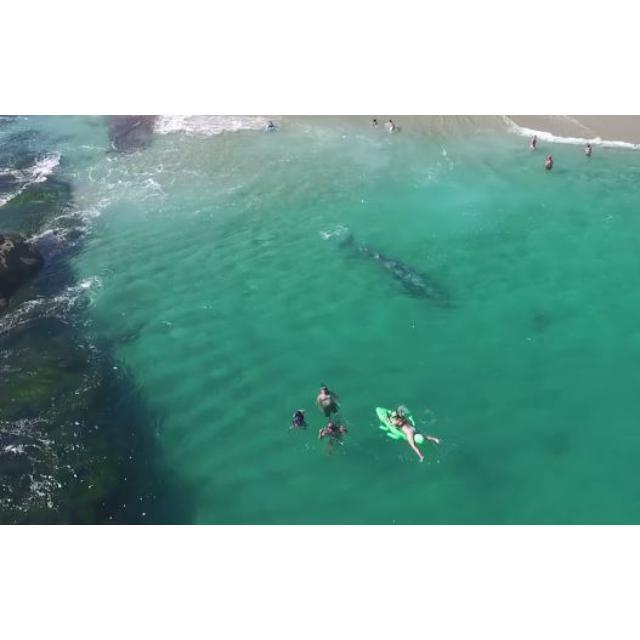human: (316, 383, 339, 421), (321, 419, 348, 443), (291, 405, 310, 432), (577, 143, 587, 156), (529, 136, 539, 148), (544, 156, 552, 169)
